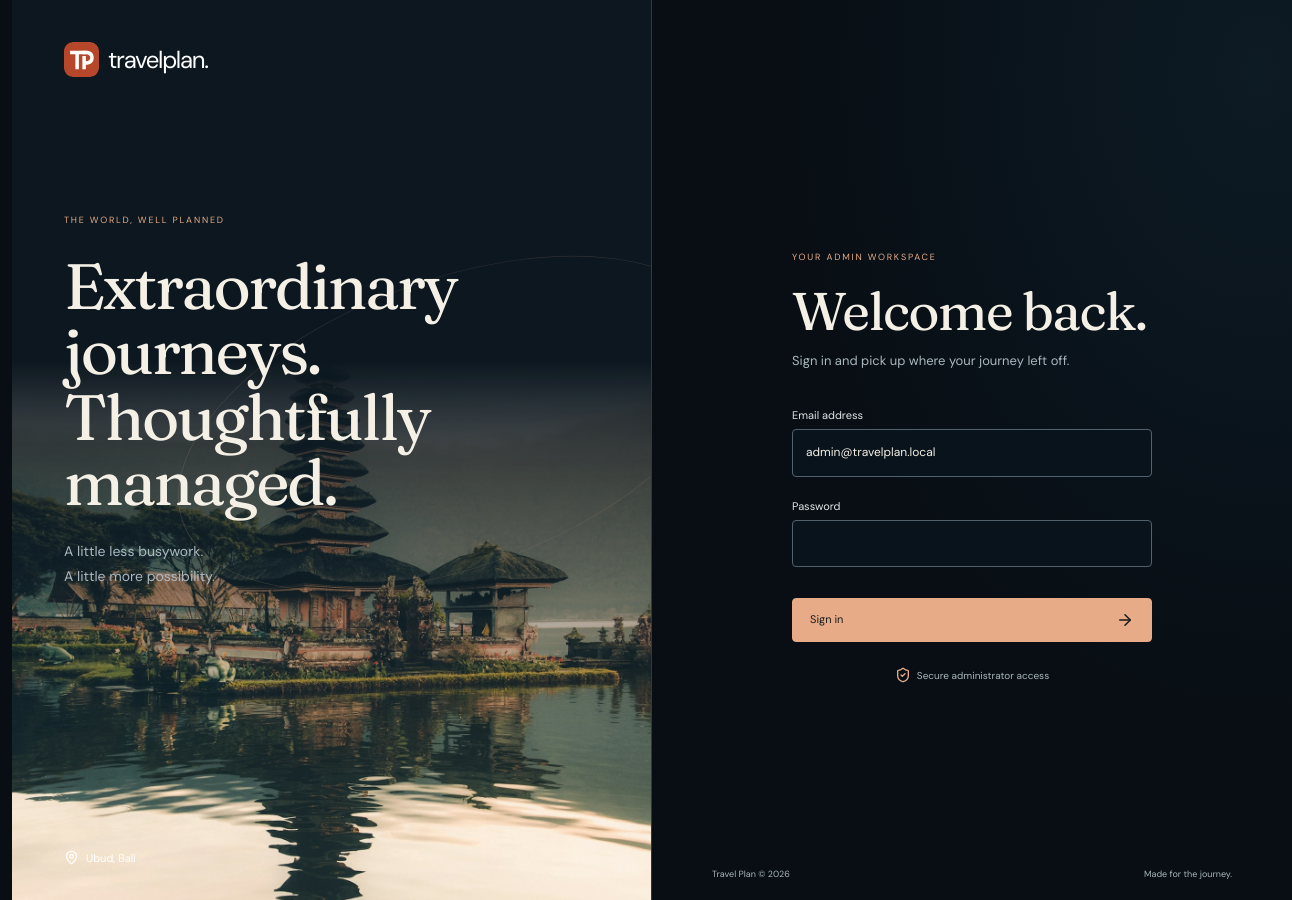
denies VIEWER login and never requests business records
Check: the button "Sign in" is shown, box [792,598,1152,642]
Type "LongTestPassword!42" into the password field labelled "Password" at (972, 543), box [792,520,1152,567]
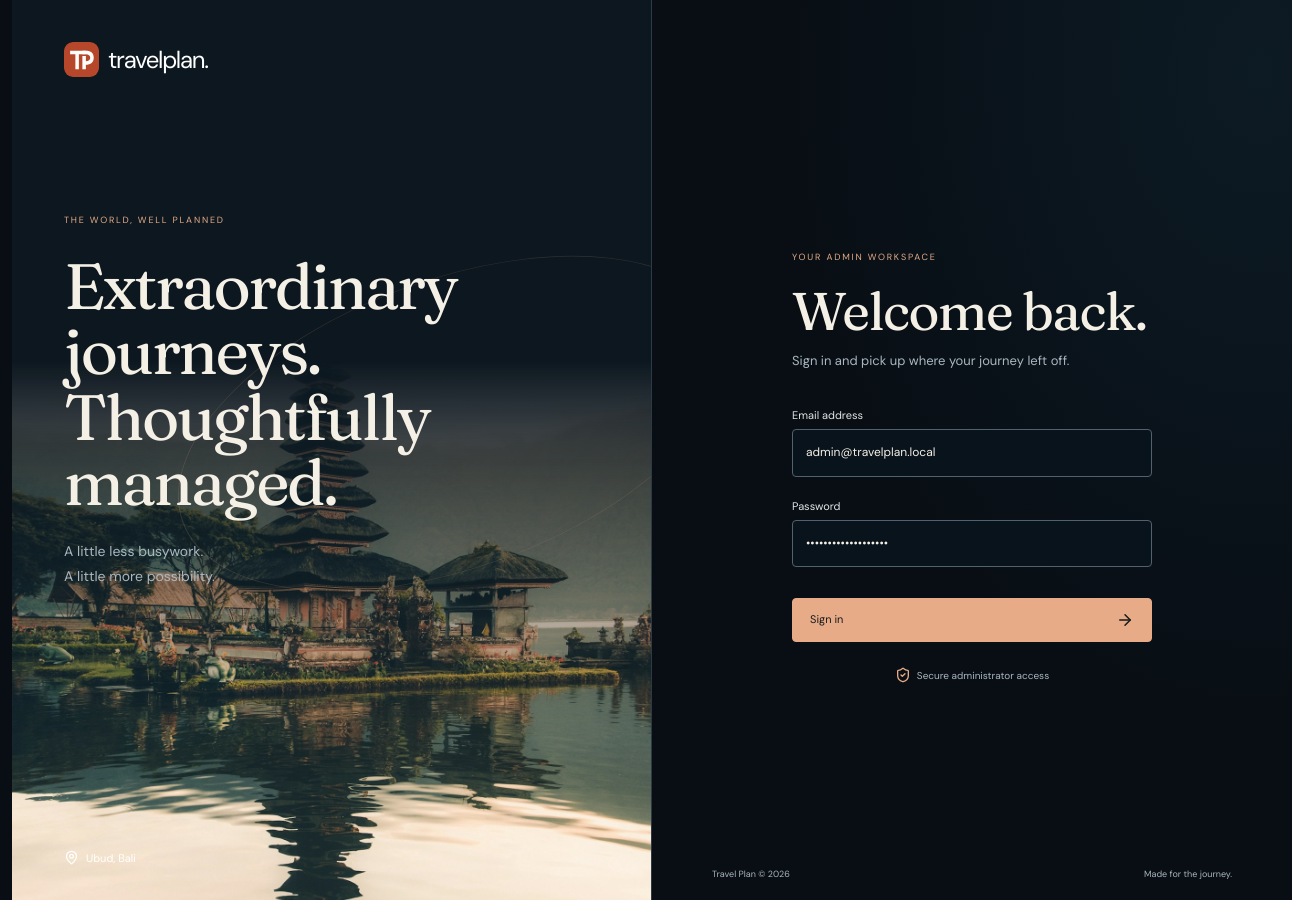
Submit the form, box [792,408,1152,642]
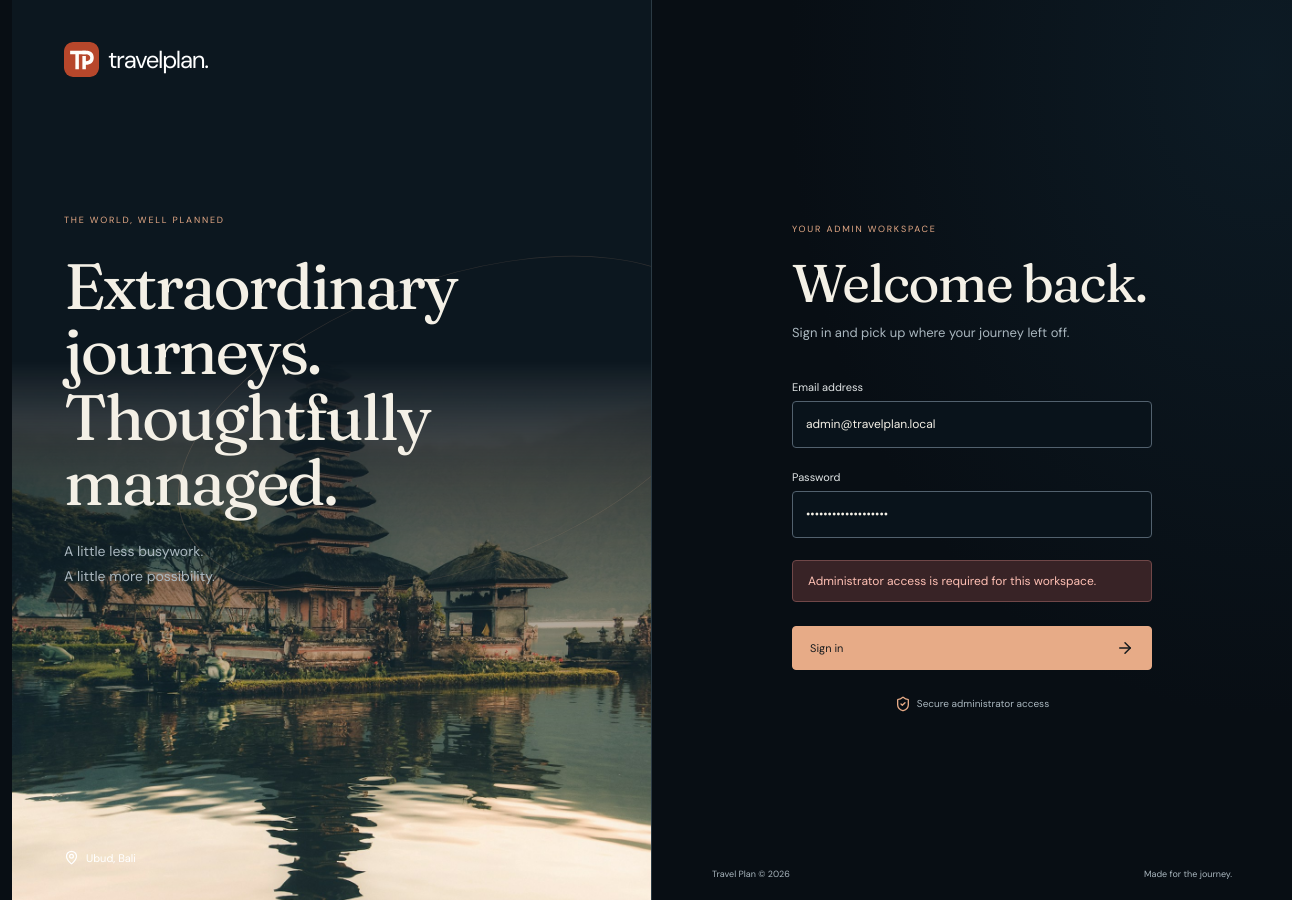
Check: the message shows "Administrator access is required", box [808,573,1096,589]
